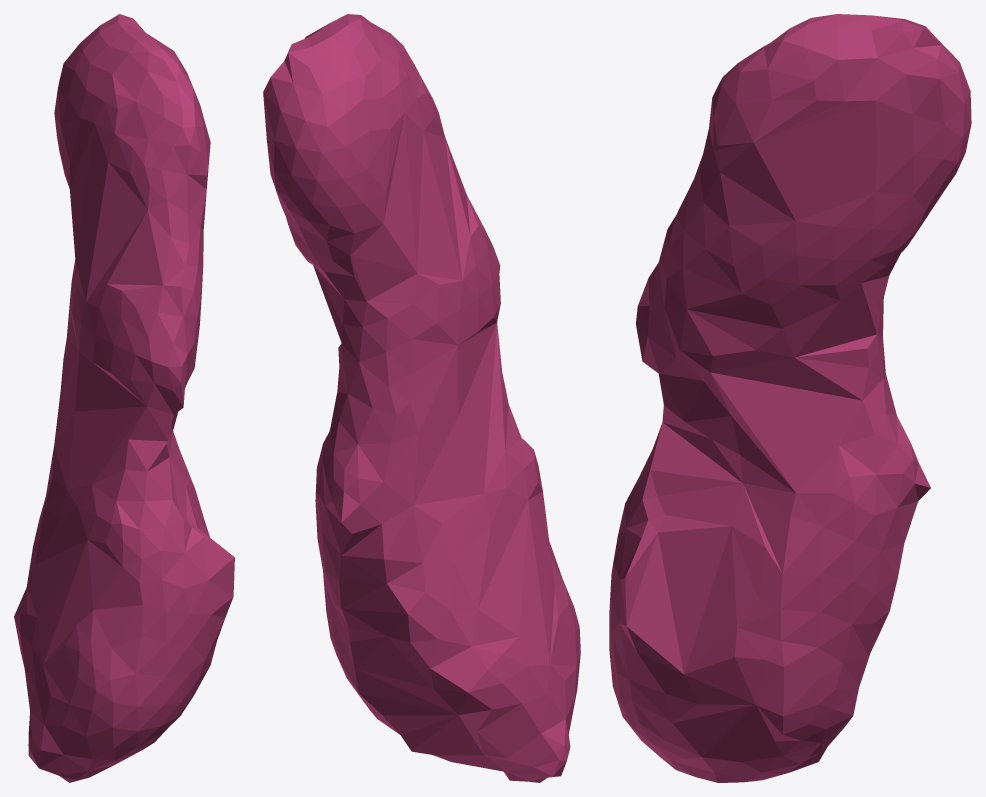
File: Model_418_RH__Nucleus_of_the_brachium_of_the_inferior_colliculus_(BIC).obj
The picture shows the model from 3 angles, left to right: view 1: azimuth 30°, elevation 25°; view 2: azimuth 150°, elevation 25°; view 3: azimuth 270°, elevation 25°; orthographic projection. The views are drawn at different scales.
Size of the model in its own units: 0.6565 by 2.22 by 0.8804.
